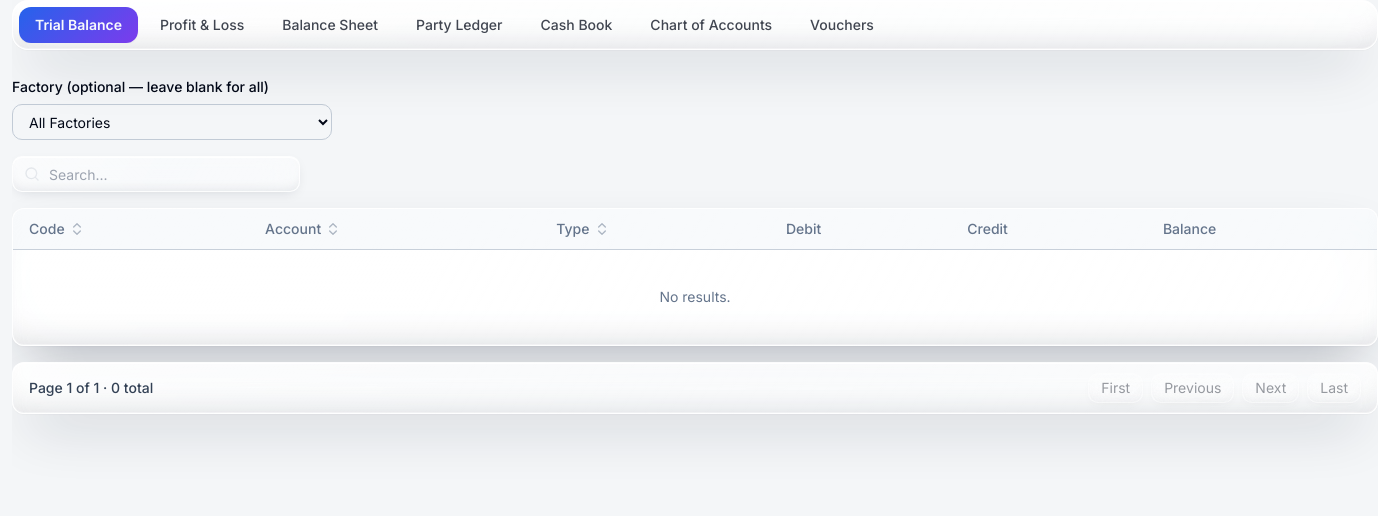
it: Ledger tabs › shows the cash book rows, its opening balance and its closing balance
Click the button "Cash Book" at x=576, y=25, box [524, 7, 628, 43]
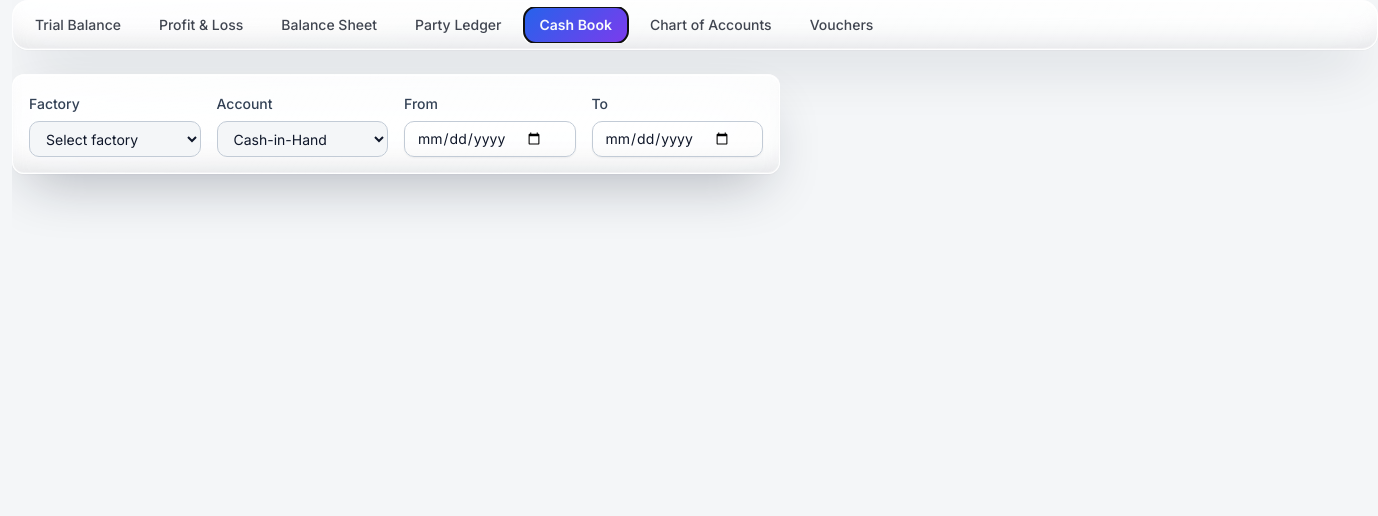
Select "Bhuasuni Plant" in the dropdown labelled "Factory" at x=115, y=139, box [29, 121, 200, 157]
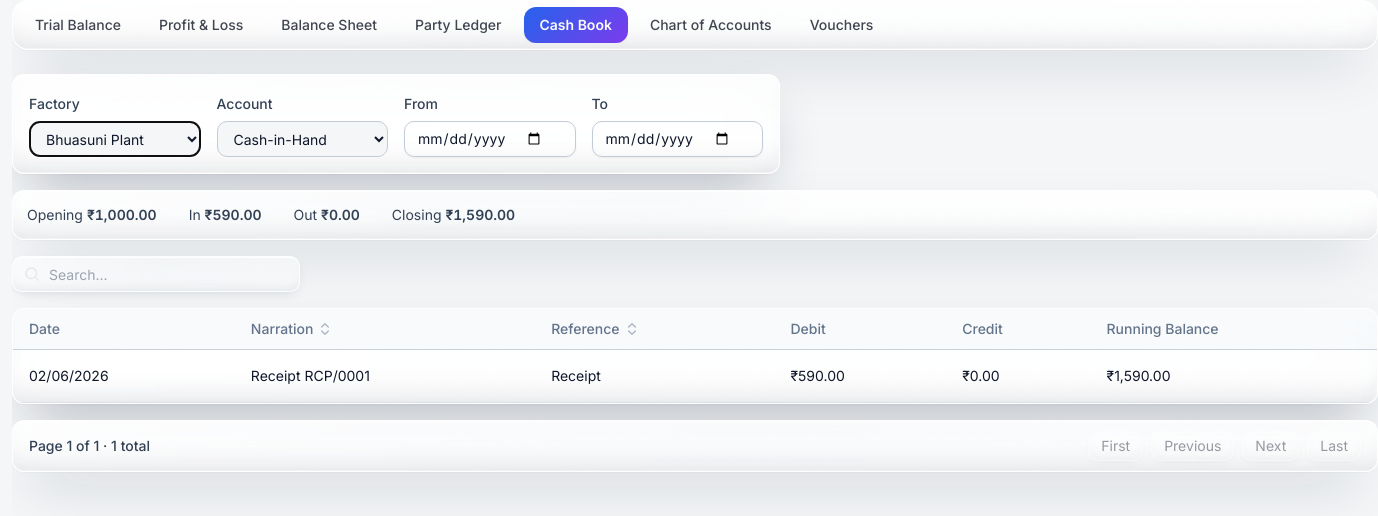
Expected: the text "Receipt RCP/0001" is shown, [235, 349, 535, 402]
Expected: the text "₹1,000.00" is shown, [87, 206, 157, 223]
Expected: the text "₹1,590.00" is shown 2 times, [445, 206, 515, 223]; [1090, 349, 1377, 402]
